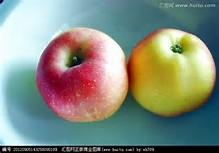apple: (34, 32, 117, 116)
